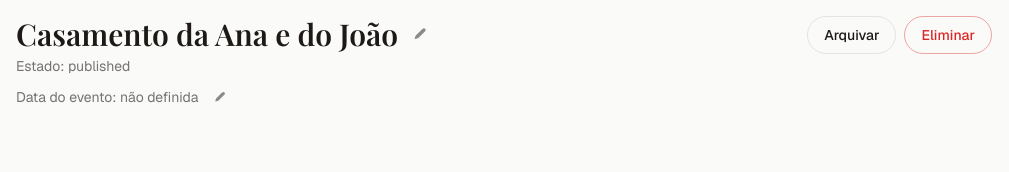
Scenario: AlbumDetail — editar nome do álbum › envia o novo título por PATCH e atualiza o cabeçalho
This screenshot has width=1009, height=172.
Expected: the heading "Casamento da Ana e do João" is shown, [16,16,398,52]
Click the button named "Editar nome do álbum" at (420, 34), box [406,20,434,48]
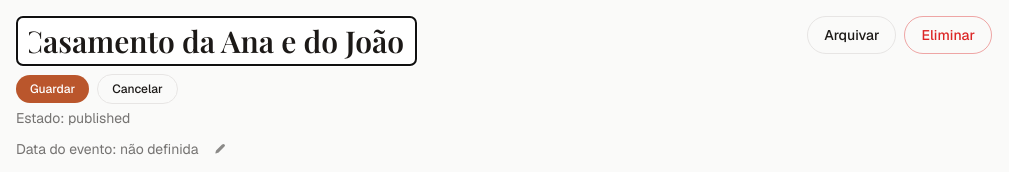
Replace the text in the field named "Nome do álbum" with "Novo nome do álbum" at (216, 41), box [16,16,417,66]
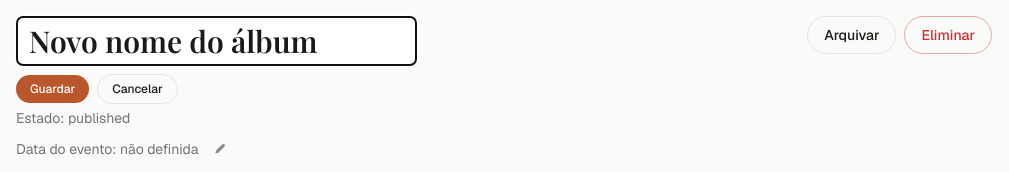
Click the button "Guardar" at (53, 89), box [16,75,89,103]
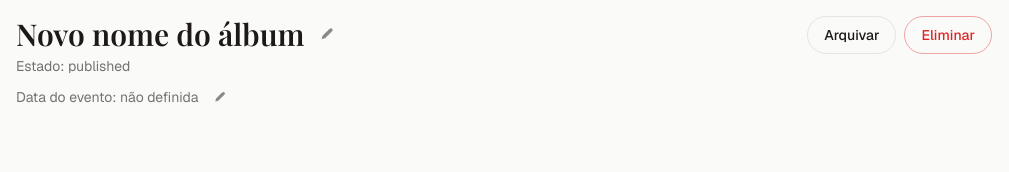
Now the heading "Novo nome do álbum" is shown, box [16,16,305,52]
